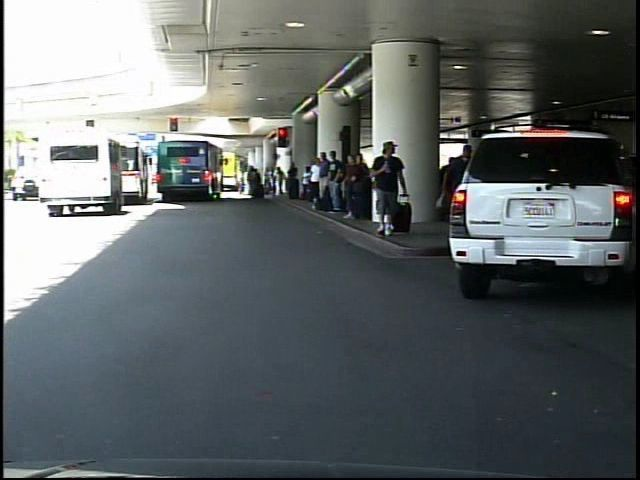person: (372, 138, 410, 241)
